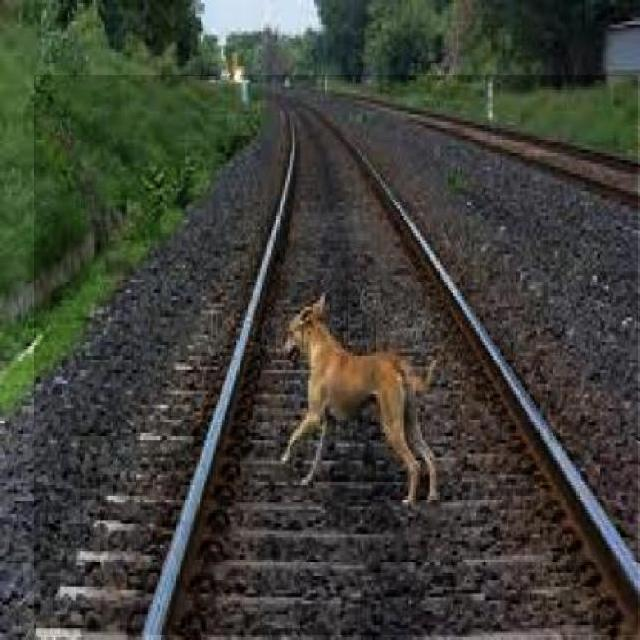rail: (35, 77, 639, 636)
